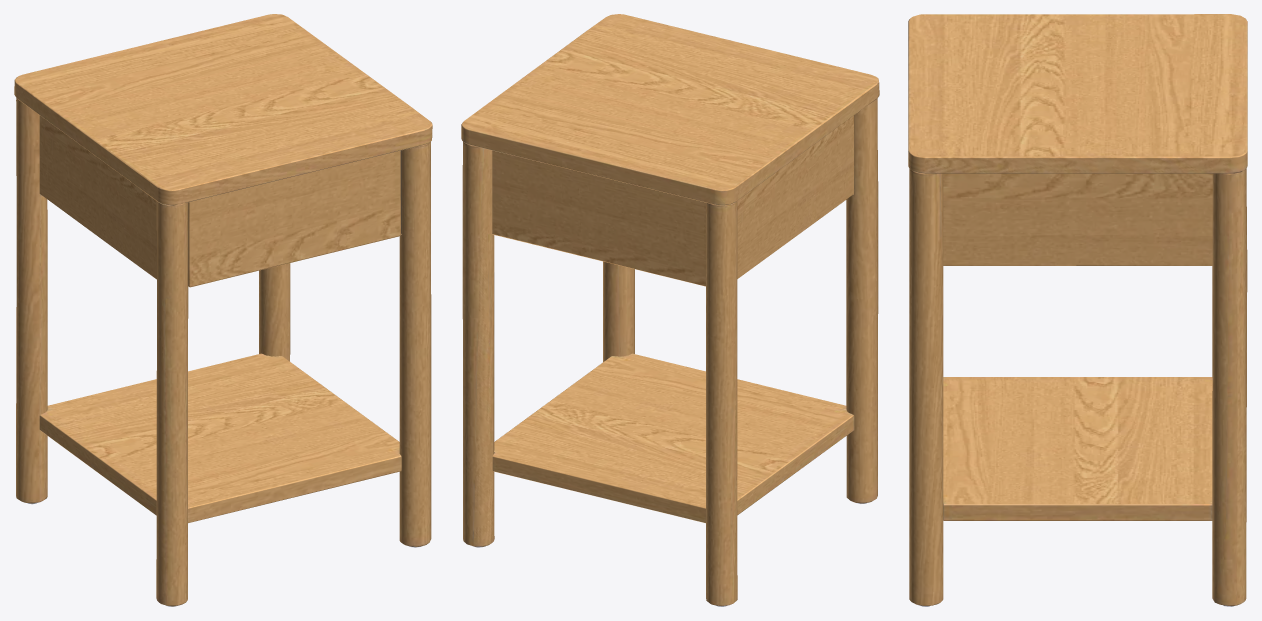
The picture shows the model from 3 angles, left to right: view 1: azimuth 30°, elevation 25°; view 2: azimuth 150°, elevation 25°; view 3: azimuth 270°, elevation 25°; orthographic projection. The views are drawn at different scales.
Visible parts, largest first — view 1: ASY_ART_80489322_S01_NV01; view 2: ASY_ART_80489322_S01_NV01; view 3: ASY_ART_80489322_S01_NV01.
Part boxes in pixels (bbox=[...]): ASY_ART_80489322_S01_NV01: bbox=[14, 14, 432, 606]; ASY_ART_80489322_S01_NV01: bbox=[461, 14, 879, 606]; ASY_ART_80489322_S01_NV01: bbox=[908, 14, 1247, 606].
Size of the model in its own units: 0.4 by 0.59 by 0.4.
Materials: 1 (1 with a texture image).
